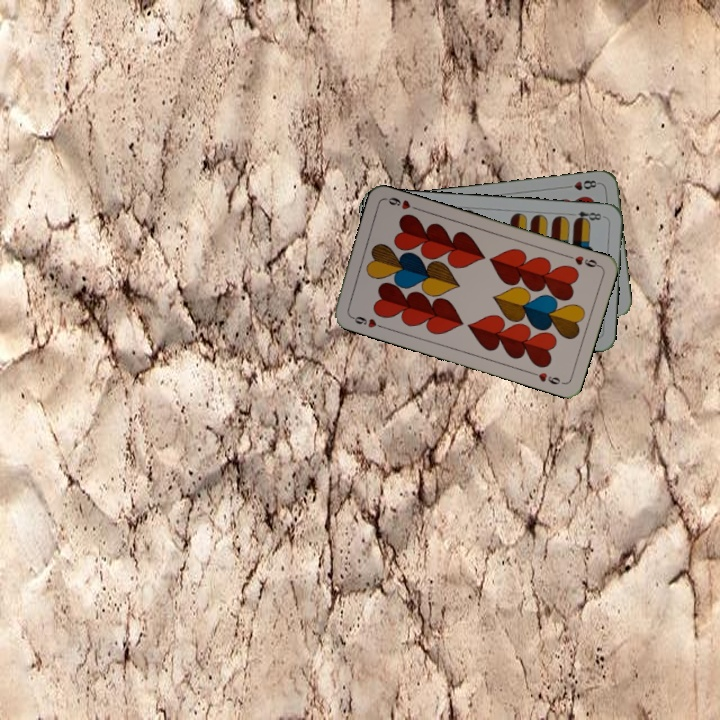E8: (566, 207, 607, 225)
H8: (561, 176, 602, 193)
H9: (346, 311, 386, 331), (563, 251, 602, 270)
